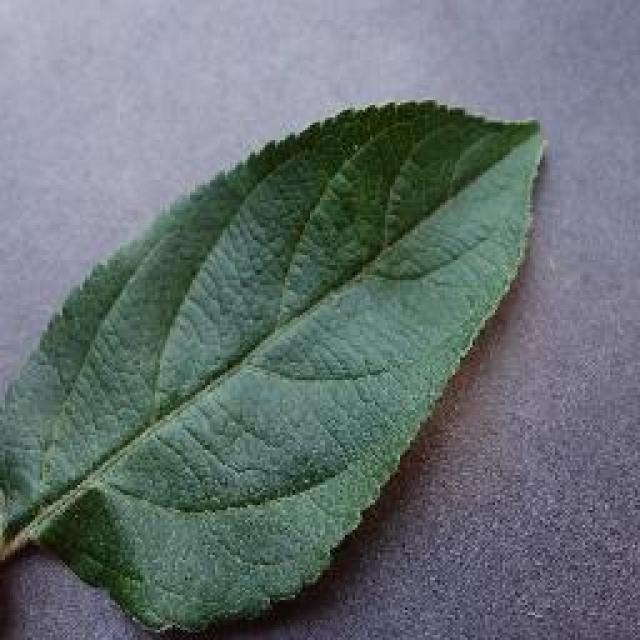apple healthy: (0, 95, 548, 637)
